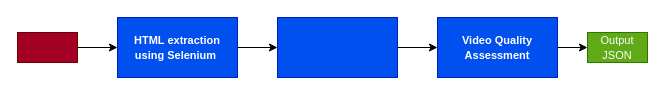
This 665x95 diagram has some shape labels left out. The centre of each missing label's shape, as x and y in pixels:
"Extract videos Links using BeautifulSoap" goes at [337,47].
"TikTok URL" goes at [47,47].
